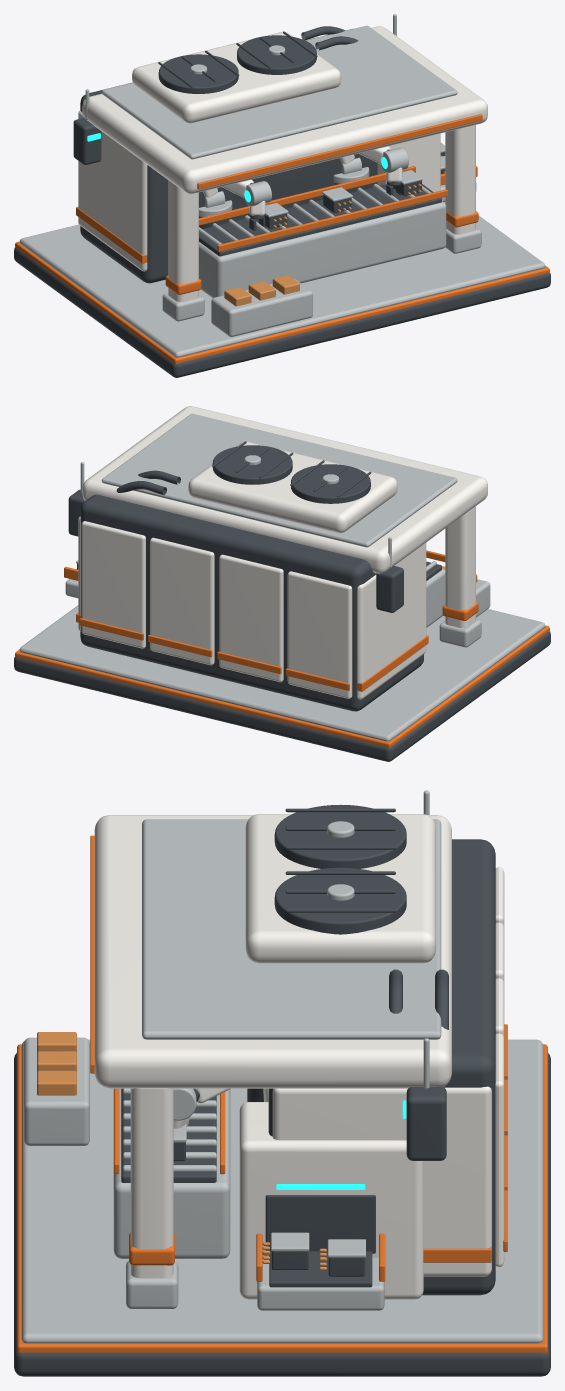
Rendered from SM_ConnectorFactory.fbx.
The picture shows the model from 3 angles, top to bottom: view 1: azimuth 30°, elevation 25°; view 2: azimuth 150°, elevation 25°; view 3: azimuth 270°, elevation 25°; orthographic projection. The views are drawn at different scales.
Parts seen in each view (by area): view 1: SM_ConnectorFactory; view 2: SM_ConnectorFactory; view 3: SM_ConnectorFactory.
Boxes of the visible parts, box(x1,y1,x2,y2) form: SM_ConnectorFactory: box(14, 14, 550, 377); SM_ConnectorFactory: box(14, 406, 550, 761); SM_ConnectorFactory: box(14, 790, 550, 1376).
Bounding box in the file's own units: 470 × 350 × 250.
